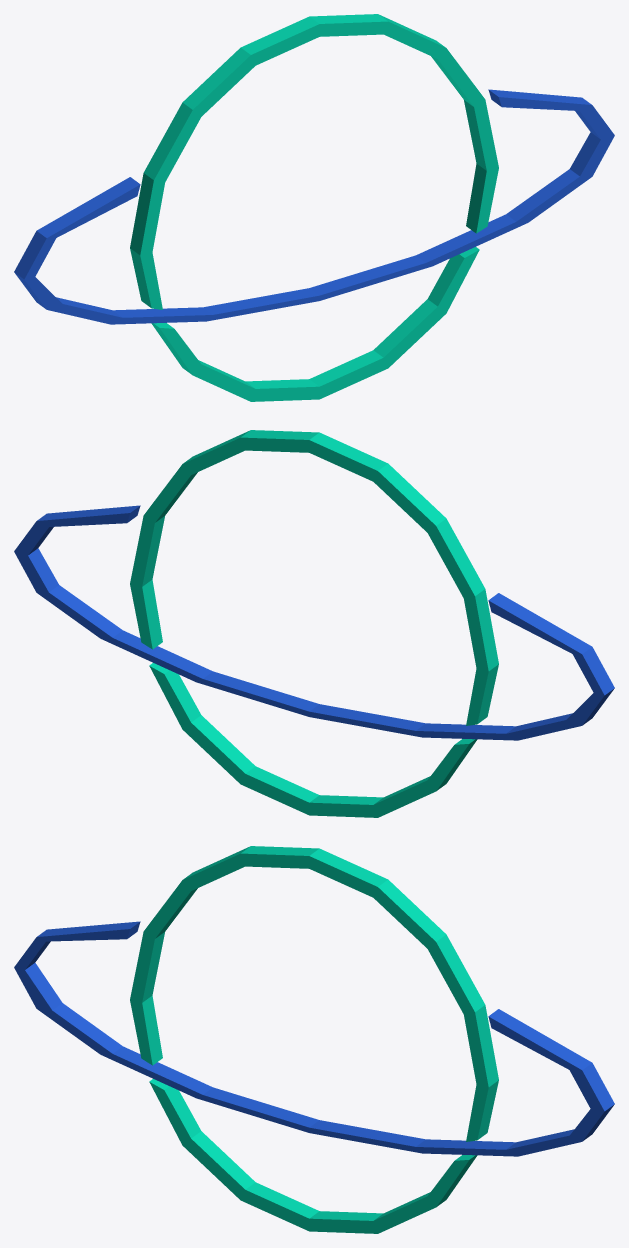
Rendered from Arcade_Neon_Planet_5.fbx.
3 renders of one model, top to bottom at view 1: azimuth 30°, elevation 25°; view 2: azimuth 150°, elevation 25°; view 3: azimuth 330°, elevation 25°, orthographic.
Parts seen in each view (by area): view 1: Circle.055; view 2: Circle.055; view 3: Circle.055.
Part boxes in pixels (box(x1,y1,x2,y2)): Circle.055: box(14, 14, 614, 401); Circle.055: box(14, 430, 614, 817); Circle.055: box(14, 846, 614, 1233).
Size of the model in its own units: 330 by 201 by 10.
